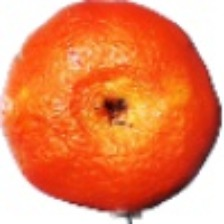tangerine: (62, 20, 204, 209)
